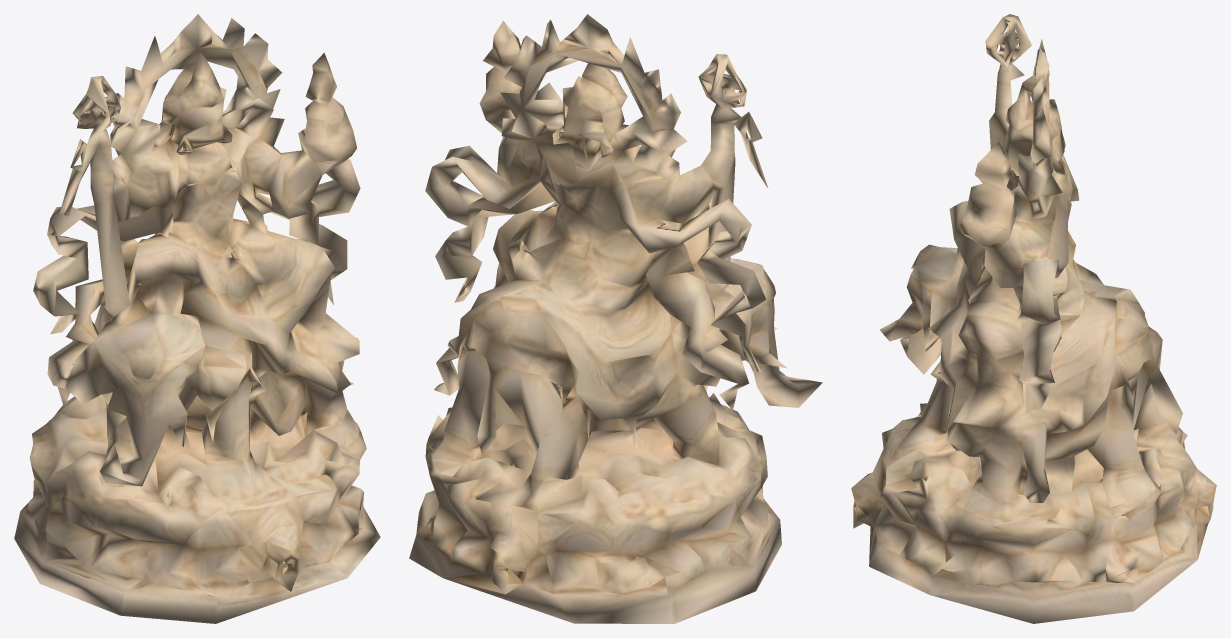
Rendered from far.glb.
3 renders of one model, left to right at view 1: azimuth 30°, elevation 25°; view 2: azimuth 150°, elevation 25°; view 3: azimuth 270°, elevation 25°, orthographic. The views are drawn at different scales.
Visible parts, largest first — view 1: owner-collection20-03; view 2: owner-collection20-03; view 3: owner-collection20-03.
Part boxes in pixels (bbox=[...]): owner-collection20-03: bbox=[14, 14, 380, 623]; owner-collection20-03: bbox=[409, 14, 822, 623]; owner-collection20-03: bbox=[851, 14, 1216, 623].
Size of the model in its own units: 0.6193 by 0.9873 by 0.6467.
Materials: 1 (1 with a texture image).
